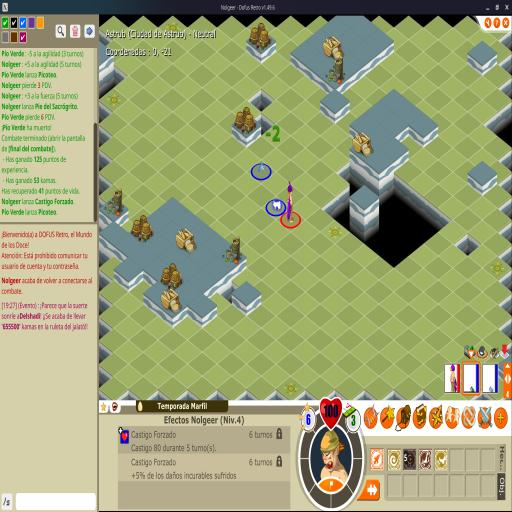Enemigos: (271, 199, 282, 212), (257, 162, 265, 173)
Personaje: (286, 180, 294, 224)
